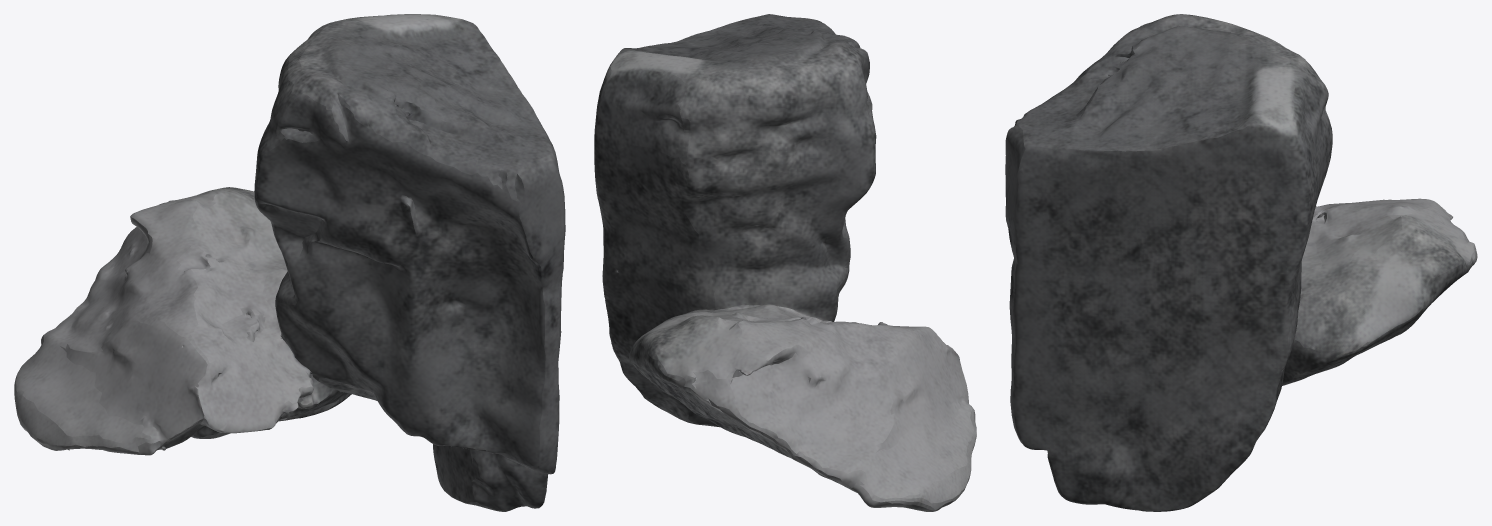
3 renders of one model, left to right at view 1: azimuth 30°, elevation 25°; view 2: azimuth 150°, elevation 25°; view 3: azimuth 270°, elevation 25°, orthographic. The views are drawn at different scales.
Visible parts, largest first — view 1: world; view 2: world; view 3: world.
Boxes of the visible parts, x1,y1,x2,y2 form: world: (14, 14, 565, 511); world: (594, 14, 976, 511); world: (1005, 14, 1477, 511).
Size of the model in its own units: 1.44 by 1.5 by 1.53.
1 material, 1 textured.
